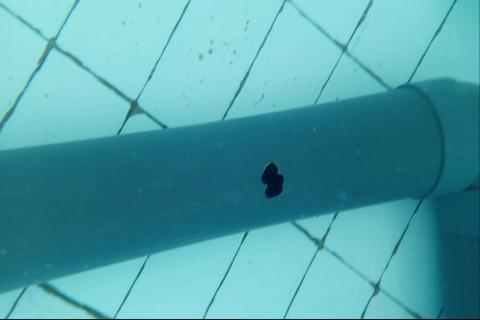kebocoran: (260, 160, 286, 201)
